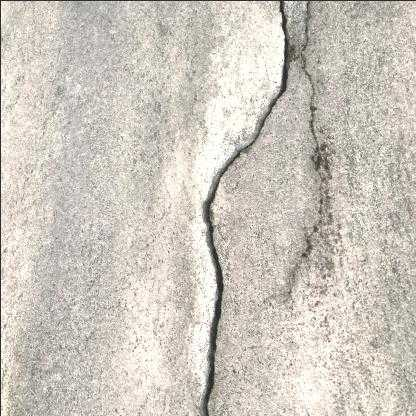crack: (199, 0, 290, 416), (270, 0, 332, 298)
